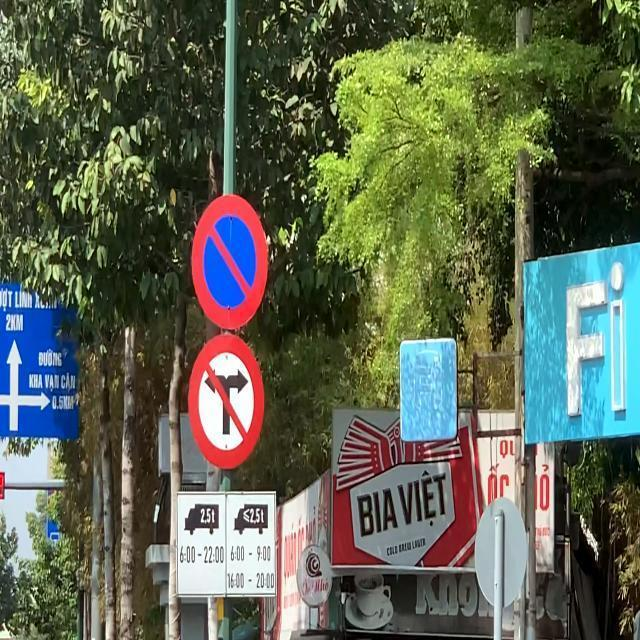131a-cam-do-xe: (188, 194, 268, 330)
137-cam-re-trai-va-re-phai: (188, 336, 266, 468)
